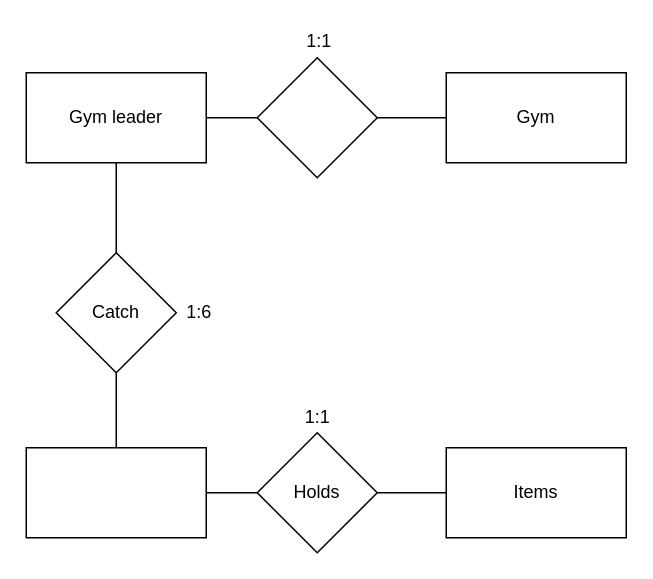
Some shapes in this 653 by 579 pixel diagram are drawn without their labels. Here are the shapes that lost their labels. From the top down, the centre of each, then its label:
(316,117): Defend
(115,492): Pokemons
